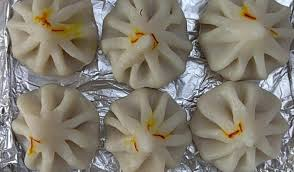modak: (191, 71, 288, 172), (6, 79, 110, 172), (92, 83, 200, 172), (99, 5, 197, 93), (197, 2, 294, 83), (6, 1, 105, 78)
